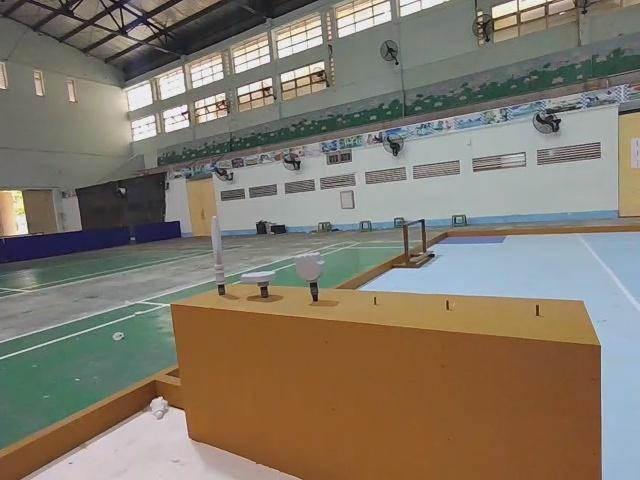Fist: (294, 250, 327, 303)
Hand: (245, 268, 280, 297)
Sph: (210, 213, 230, 294)
